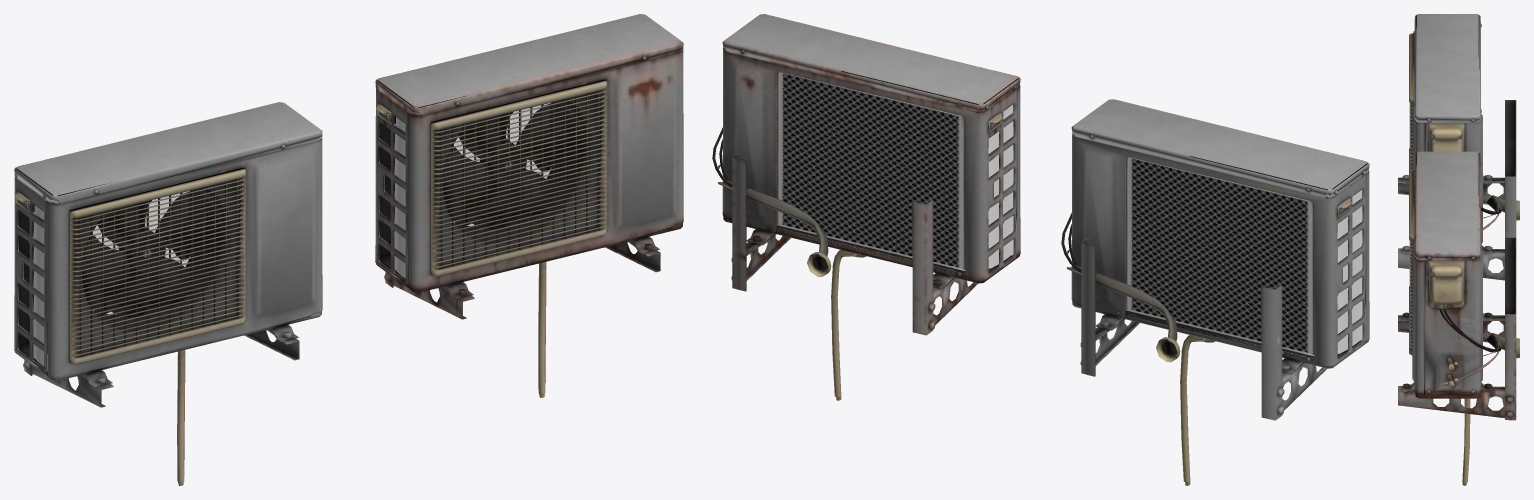
File: exterior_aircon_unit.gltf
The picture shows the model from 3 angles, left to right: view 1: azimuth 30°, elevation 25°; view 2: azimuth 150°, elevation 25°; view 3: azimuth 270°, elevation 25°; orthographic projection. The views are drawn at different scales.
Visible parts, largest first — view 1: exterior_aircon_unit, exterior_aircon_unit_rusted; view 2: exterior_aircon_unit, exterior_aircon_unit_rusted; view 3: exterior_aircon_unit_rusted, exterior_aircon_unit.
Part boxes in pixels (bbox=[...]): exterior_aircon_unit: bbox=[14, 102, 322, 485]; exterior_aircon_unit_rusted: bbox=[375, 14, 683, 397]; exterior_aircon_unit: bbox=[1061, 99, 1369, 485]; exterior_aircon_unit_rusted: bbox=[712, 14, 1020, 400]; exterior_aircon_unit_rusted: bbox=[1398, 151, 1519, 485]; exterior_aircon_unit: bbox=[1398, 14, 1519, 280].
Bounding box in the file's own units: 1.8 × 0.9279 × 0.3742.
4 materials, 4 textured.
